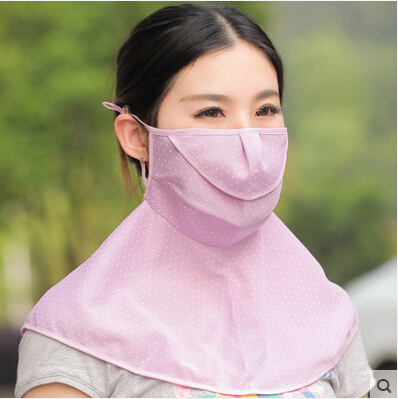face_mask: (154, 43, 288, 228)
